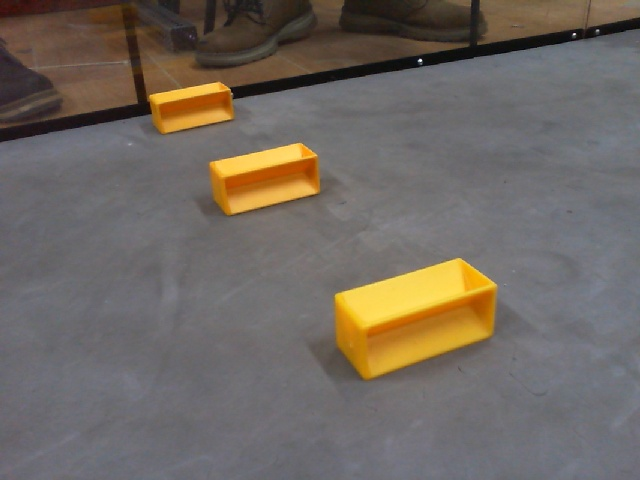YellowSample: (331, 257, 506, 383), (206, 143, 330, 217), (146, 77, 239, 146)
